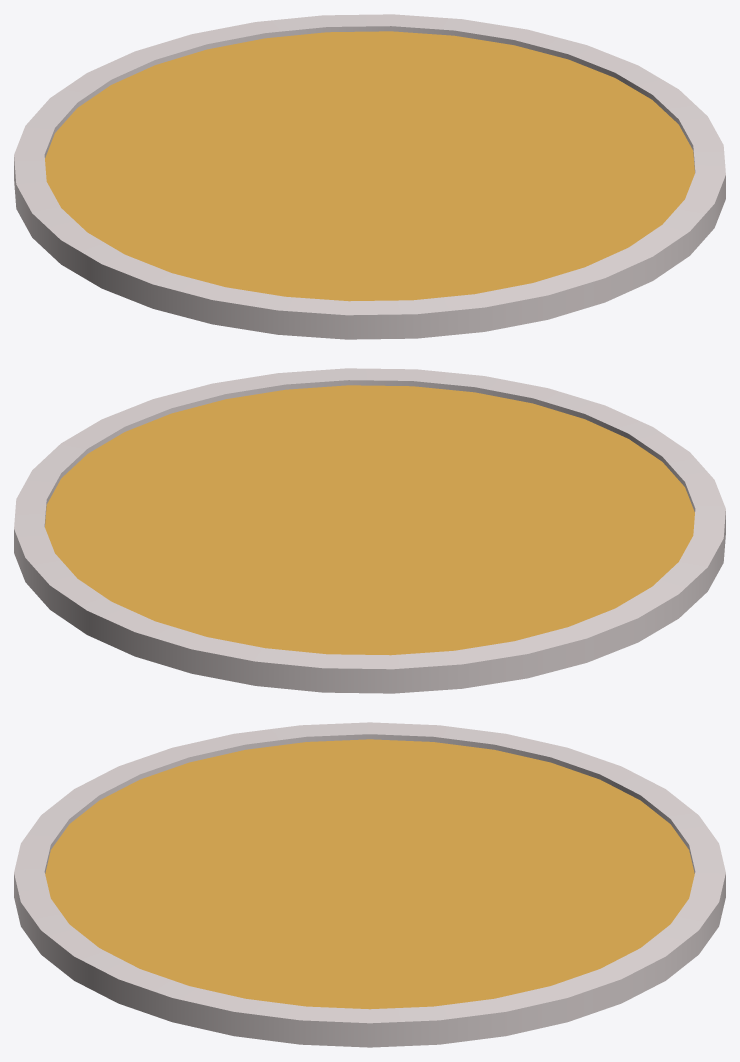
File: chyba_moneta.fbx
3 views of the same model, one above another, from view 1: azimuth 30°, elevation 25°; view 2: azimuth 150°, elevation 25°; view 3: azimuth 270°, elevation 25° (orthographic).
Visible parts, largest first — view 1: Walec; view 2: Walec; view 3: Walec.
Boxes of the visible parts, left/top/right/bottom form: Walec: left=14, top=14, right=725, bottom=339; Walec: left=14, top=368, right=725, bottom=693; Walec: left=14, top=722, right=725, bottom=1047.
Bounding box in the file's own units: 28.91 × 1.19 × 28.91.
